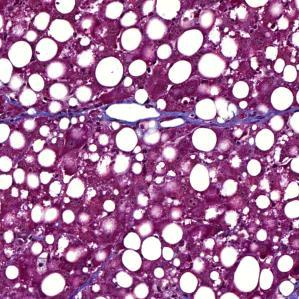fibrosis: (159, 102, 261, 132)
